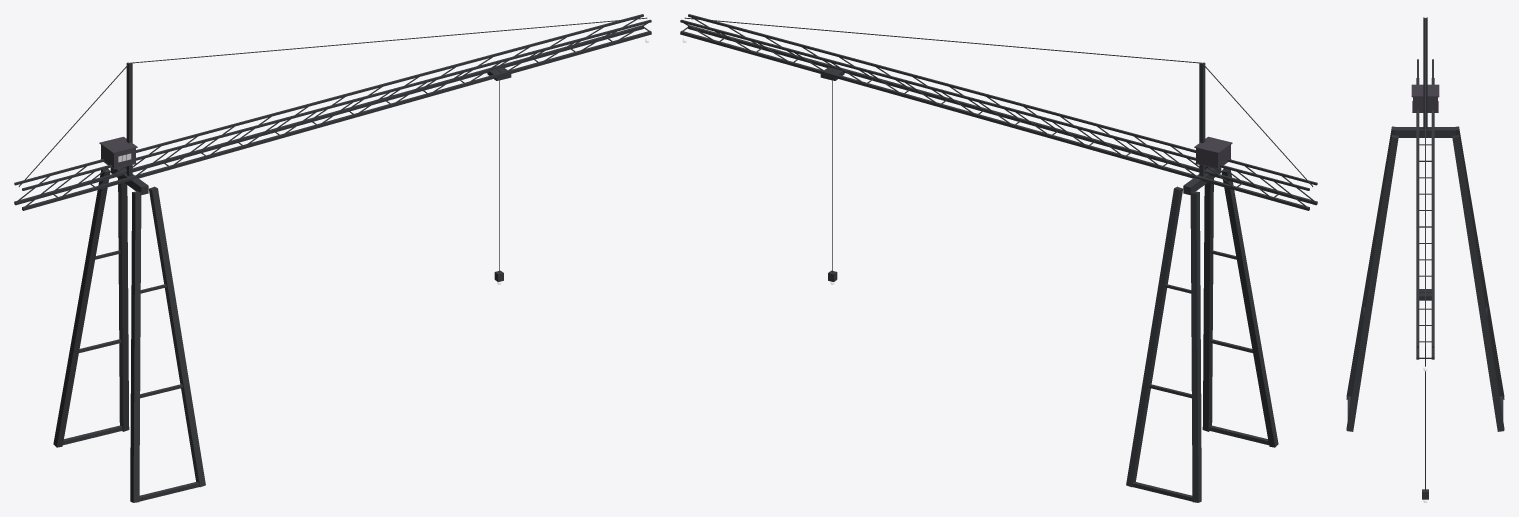
Rendered from cond_crane.glb.
3 renders of one model, left to right at view 1: azimuth 30°, elevation 25°; view 2: azimuth 150°, elevation 25°; view 3: azimuth 270°, elevation 25°, orthographic.
Visible parts, largest first — view 1: cond_crane; view 2: cond_crane; view 3: cond_crane.
Part boxes in pixels (x1=…): cond_crane: x1=14, y1=14, x2=651, y2=502; cond_crane: x1=680, y1=14, x2=1317, y2=502; cond_crane: x1=1346, y1=14, x2=1504, y2=502.
Bounding box in the file's own units: 171 × 105 × 37.6.
Materials: 5 (2 with a texture image).
